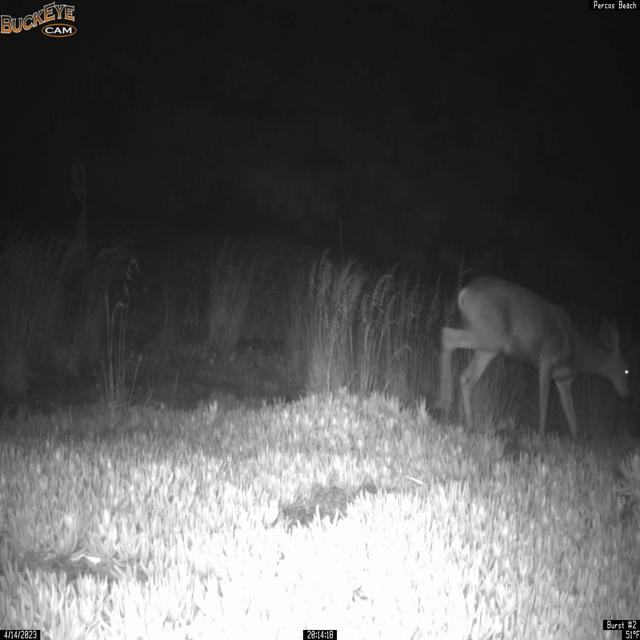deer: (436, 274, 634, 442)
